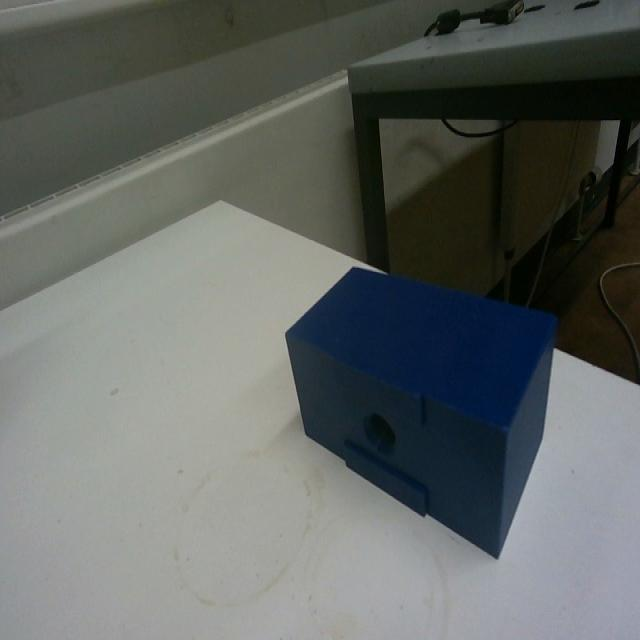Blue Cuboid: (282, 260, 559, 559)
